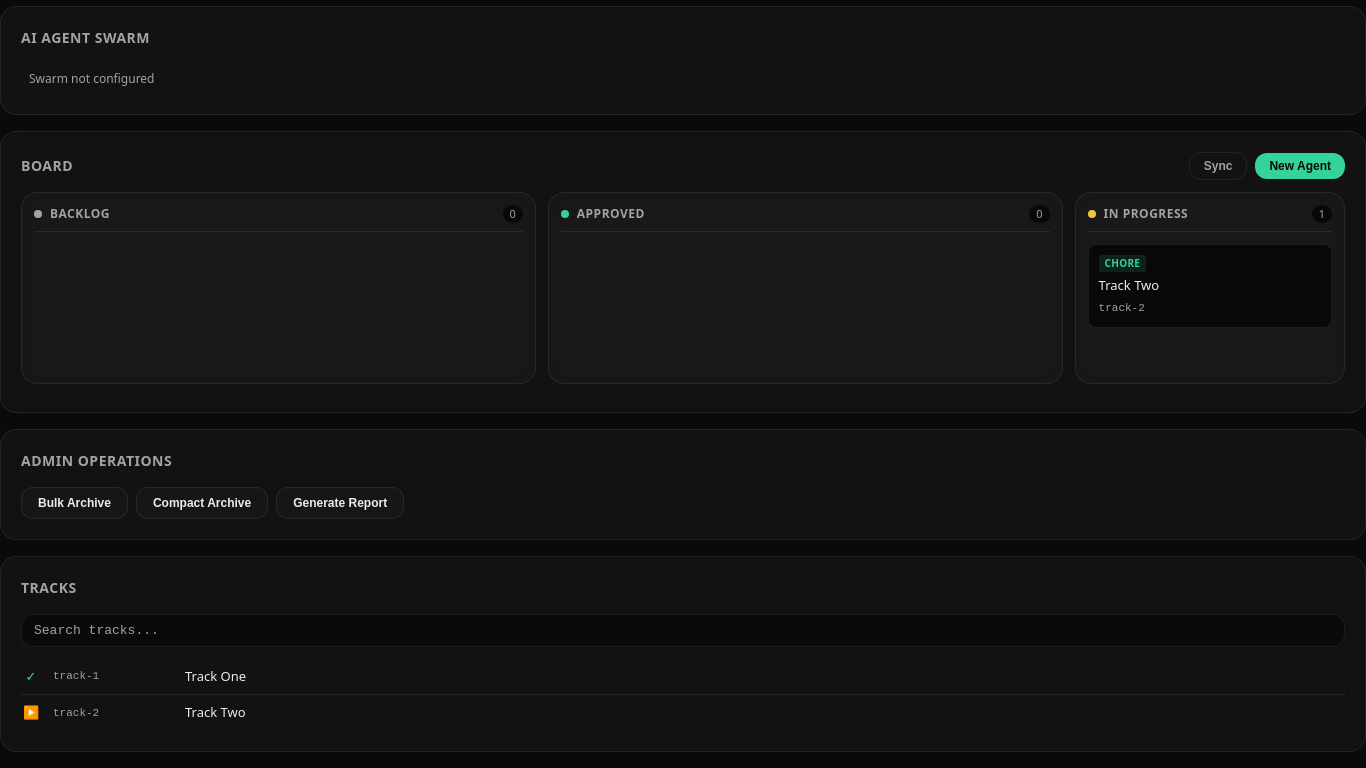
Test: ProjectPage › shows clear button when search has text
This screenshot has width=1366, height=768.
(page scrolled)
Step 1. Type "test" into the field with placeholder "Search tracks..." → (683, 630), box [21,614,1345,646]
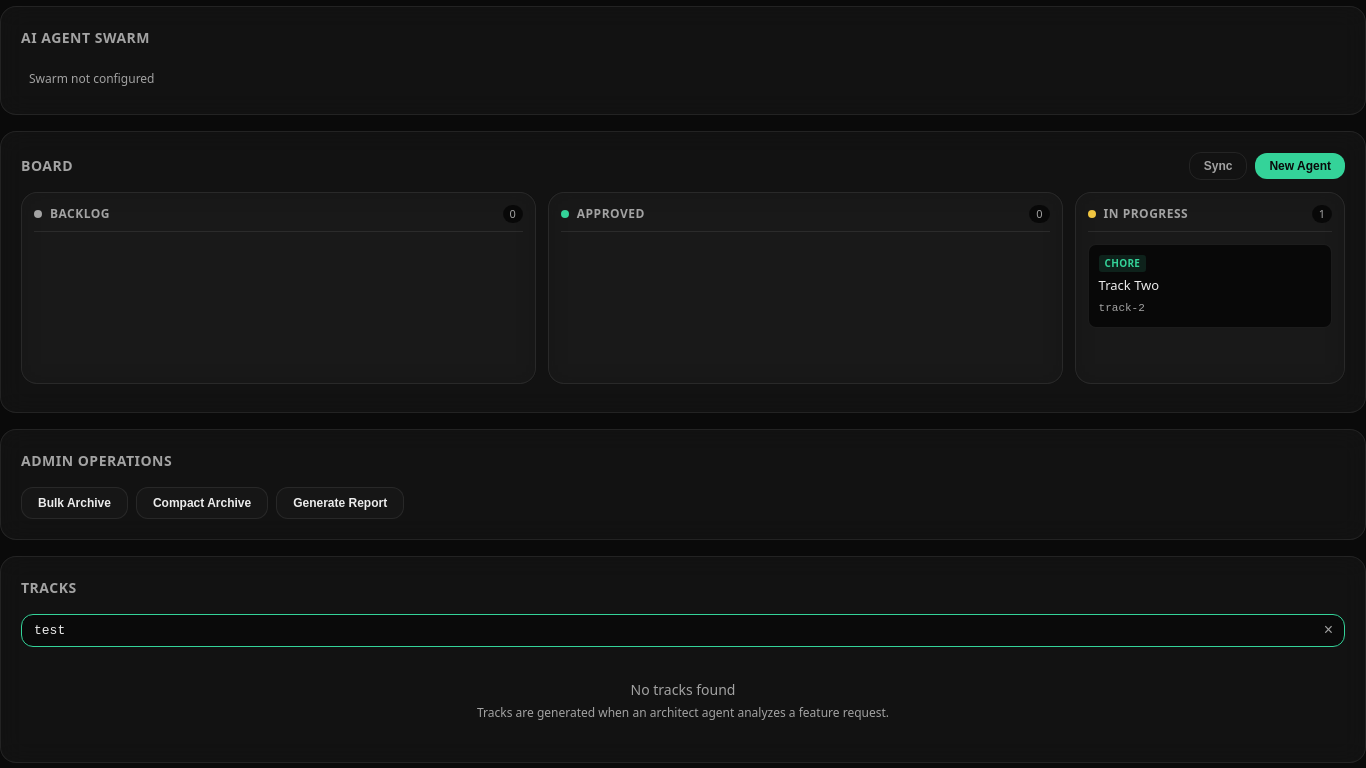
expect the button named "Clear search" is shown: met, box [1320,620,1337,640]
